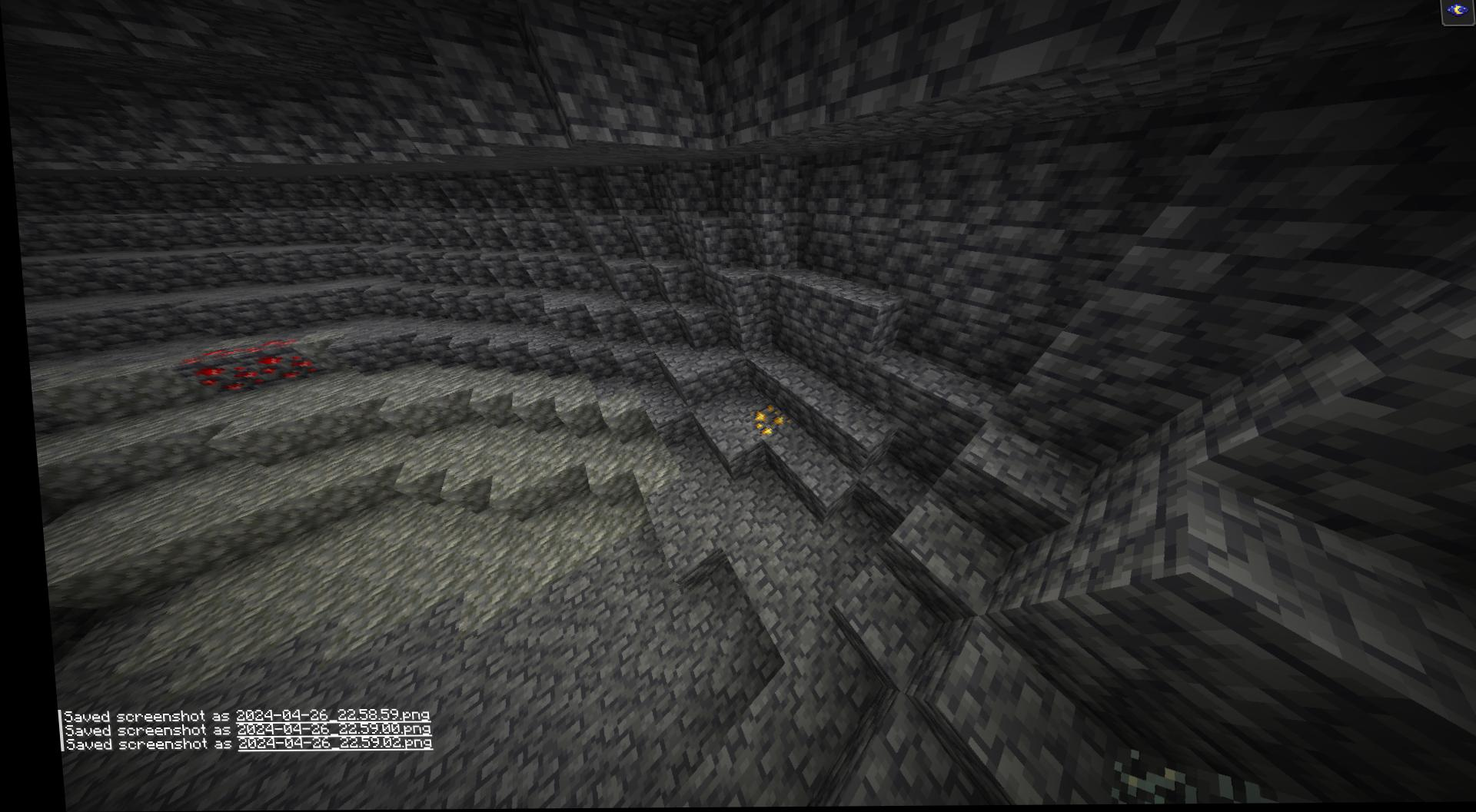gold ore: (742, 404, 784, 439)
redstone ore: (177, 342, 257, 396), (246, 335, 312, 382)
